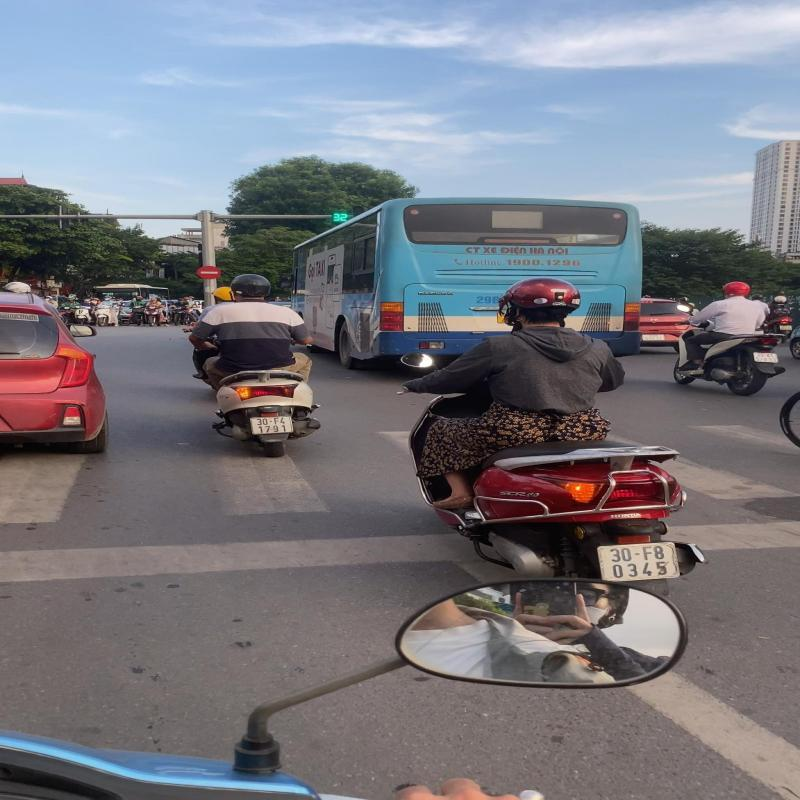helmet: (492, 276, 584, 326), (226, 274, 280, 302)
licenseplate: (592, 541, 686, 582), (246, 414, 300, 436)
motorcyclist: (391, 274, 716, 608), (189, 270, 325, 457)
